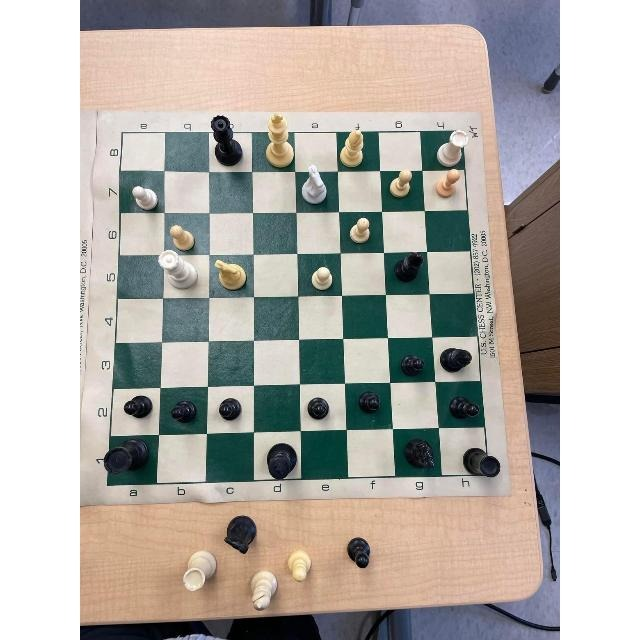black-bishop: (392, 251, 425, 287), (439, 343, 473, 377)
black-king: (264, 440, 299, 485)
black-knight: (404, 437, 438, 474)
black-pawn: (446, 394, 480, 424), (168, 396, 199, 428), (120, 394, 154, 420), (216, 396, 243, 424), (399, 352, 426, 379), (357, 388, 383, 415), (306, 396, 330, 422)
black-queen: (208, 113, 244, 168)
black-rook: (102, 436, 154, 477), (460, 446, 501, 482)
white-bishop: (339, 127, 367, 168)
white-king: (262, 111, 296, 170)
white-knight: (212, 255, 250, 293), (298, 163, 329, 208)
white-pawn: (388, 166, 415, 201), (168, 221, 196, 254), (130, 185, 162, 213), (434, 168, 461, 201), (348, 215, 372, 249), (309, 266, 334, 292)
white-queen: (156, 249, 199, 291)
white-rook: (436, 127, 470, 169)
